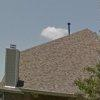Chimney: (4, 37, 23, 98)
